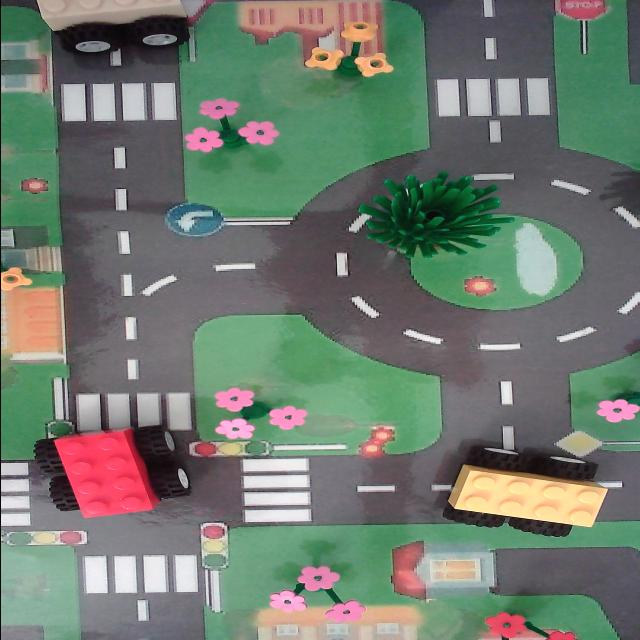Car: (438, 430, 612, 546), (22, 420, 200, 520)
Flower: (180, 81, 290, 167), (254, 552, 376, 628), (294, 15, 400, 90), (207, 376, 316, 444)
Tree: (336, 160, 516, 260)
